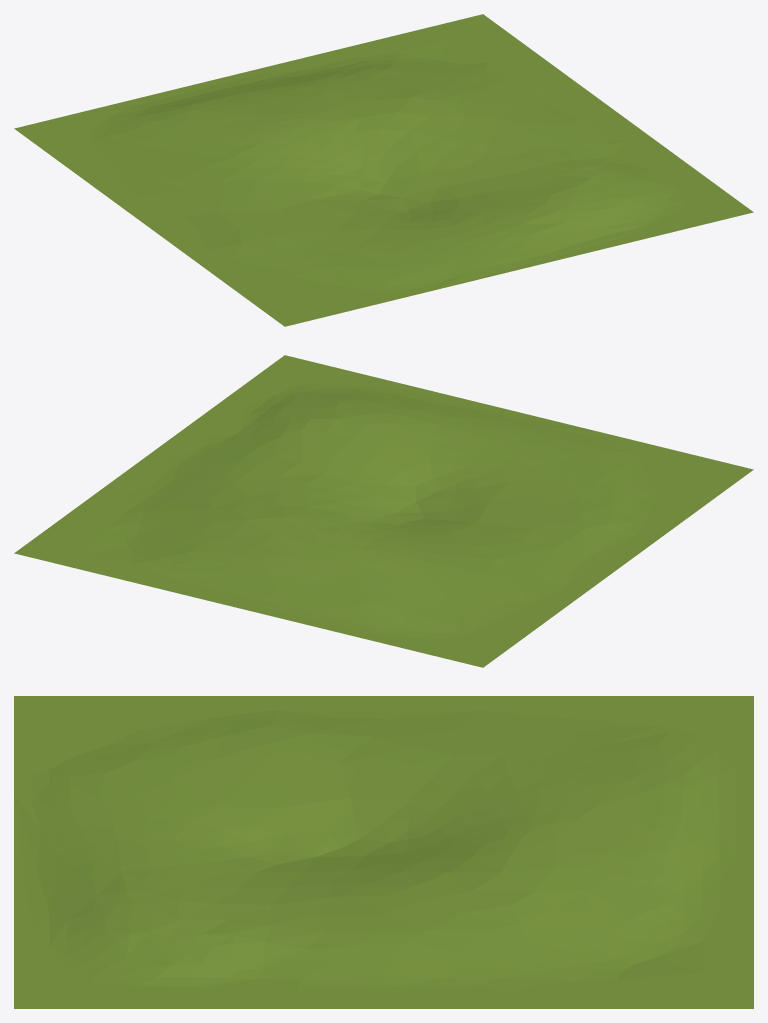
The model's file is Mesh_Landscape_Terrain_08.FBX.
3 views of the same model, one above another, from view 1: azimuth 30°, elevation 25°; view 2: azimuth 150°, elevation 25°; view 3: azimuth 270°, elevation 25° (orthographic). The views are drawn at different scales.
Visible parts, largest first — view 1: Mesh_Landscape_Terrain_08; view 2: Mesh_Landscape_Terrain_08; view 3: Mesh_Landscape_Terrain_08.
Part boxes in pixels (x1,y1,x2,y2): Mesh_Landscape_Terrain_08: (14,14,753,326); Mesh_Landscape_Terrain_08: (14,355,753,667); Mesh_Landscape_Terrain_08: (14,696,753,1008).
Size of the model in its own units: 12800 by 12800 by 527.
